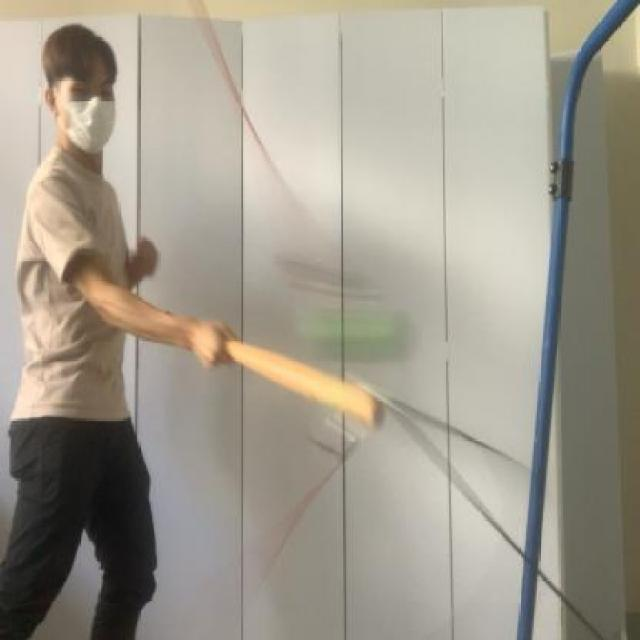baseball: (256, 292, 430, 394)
